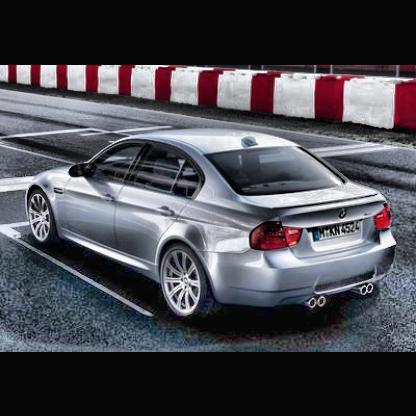BMW M5 Sedan 2010: (25, 127, 402, 322)
